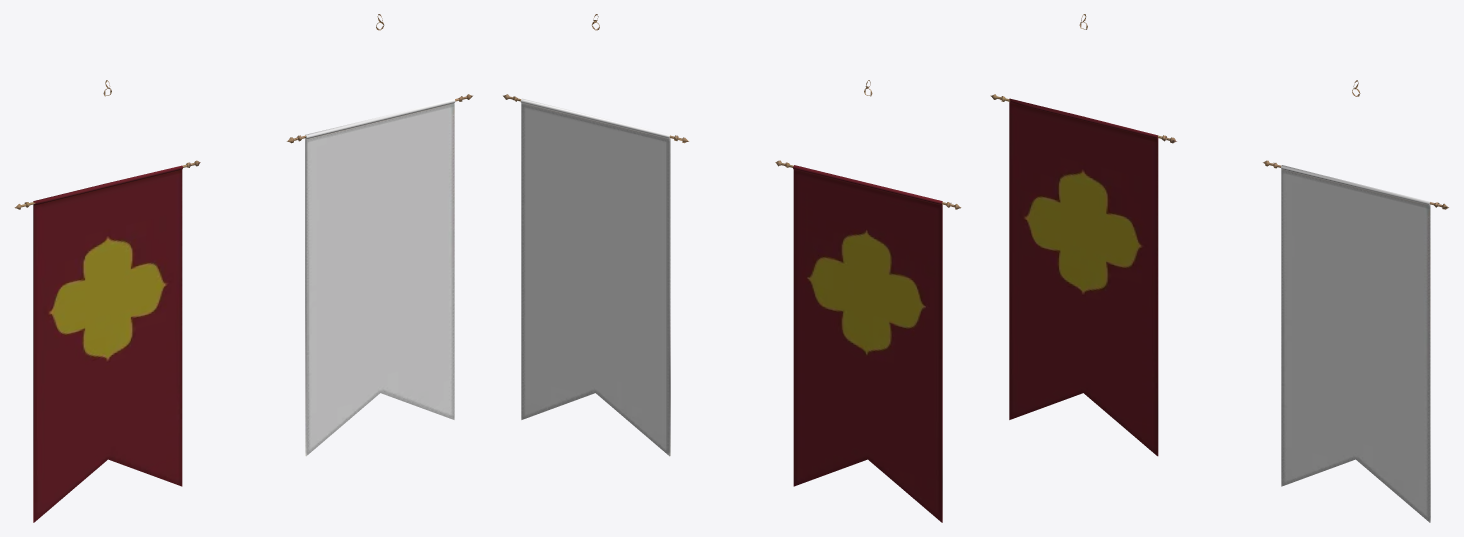
File: hanging-banner.lod0.glb
The picture shows the model from 3 angles, left to right: view 1: azimuth 30°, elevation 25°; view 2: azimuth 150°, elevation 25°; view 3: azimuth 330°, elevation 25°; orthographic projection.
Visible parts, largest first — view 1: Object_4, Object_6; view 2: Object_4, Object_6; view 3: Object_4, Object_6.
Boxes of the visible parts, x1,y1,x2,y2 form: Object_4: [14, 80, 200, 522]; Object_6: [287, 14, 472, 456]; Object_4: [775, 80, 961, 522]; Object_6: [503, 14, 688, 456]; Object_4: [990, 14, 1176, 456]; Object_6: [1263, 80, 1448, 522].
Bounding box in the file's own units: 5.67 × 5 × 0.1056.
Materials: 2 (2 with a texture image).
